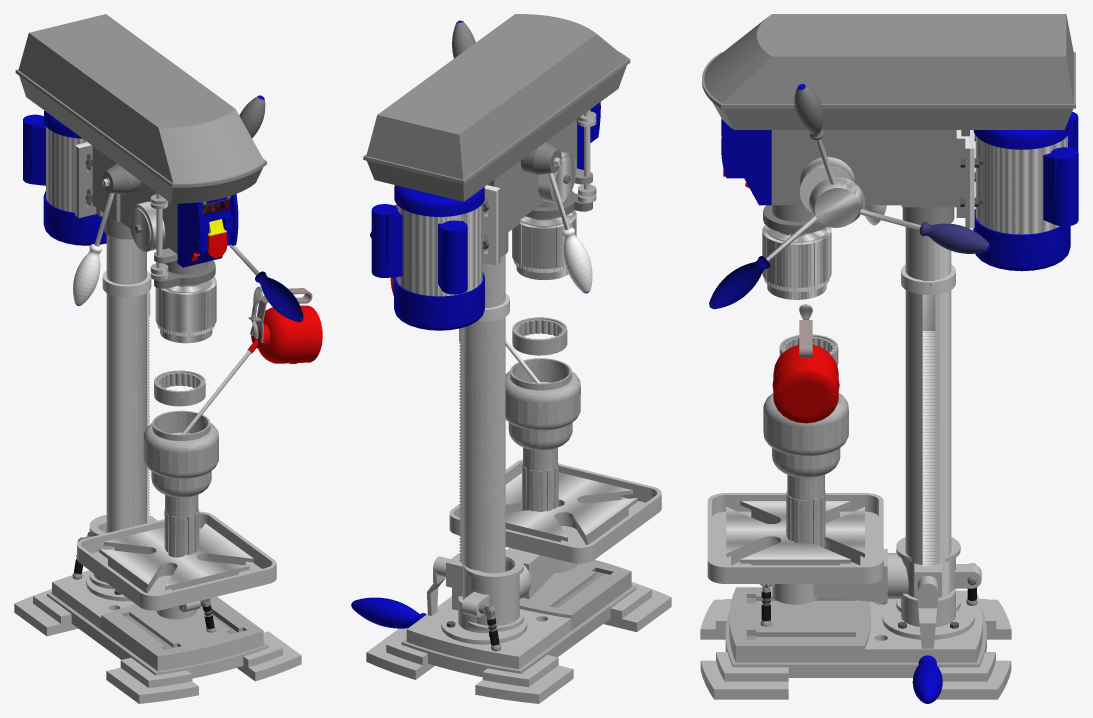
3 renders of one model, left to right at view 1: azimuth 30°, elevation 25°; view 2: azimuth 150°, elevation 25°; view 3: azimuth 270°, elevation 25°, orthographic. The views are drawn at different scales.
Parts seen in each view (by area): view 1: 01, 04, 1.003, Oiler, 03, 02.001, 1.002; view 2: 01, 04, 1.003, 03, 1.002, 02.001; view 3: 01, 04, 02.001, 1.003, Oiler, 03, 1.002.
Part boxes in pixels (left/top/right/bottom): 01: left=14, top=14, right=301, bottom=703; 04: left=72, top=511, right=276, bottom=632; 1.003: left=143, top=410, right=218, bottom=557; Oiler: left=182, top=286, right=322, bottom=434; 03: left=155, top=277, right=216, bottom=343; 02.001: left=229, top=95, right=303, bottom=322; 1.002: left=154, top=370, right=205, bottom=406; 01: left=363, top=14, right=671, bottom=703; 04: left=351, top=459, right=661, bottom=651; 1.003: left=505, top=358, right=580, bottom=511; 03: left=512, top=210, right=576, bottom=280; 1.002: left=512, top=317, right=567, bottom=355; 02.001: left=370, top=20, right=475, bottom=238; 01: left=700, top=14, right=1078, bottom=699; 04: left=707, top=493, right=981, bottom=703; 02.001: left=709, top=84, right=990, bottom=309; 1.003: left=763, top=392, right=848, bottom=547; Oiler: left=772, top=304, right=839, bottom=423; 03: left=762, top=224, right=831, bottom=299; 1.002: left=779, top=334, right=838, bottom=364.
Size of the model in its own units: 504 by 1225 by 676.
44 materials, 13 textured.
